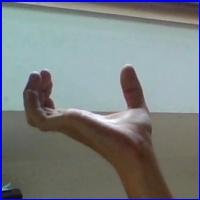B: (19, 58, 171, 171)
